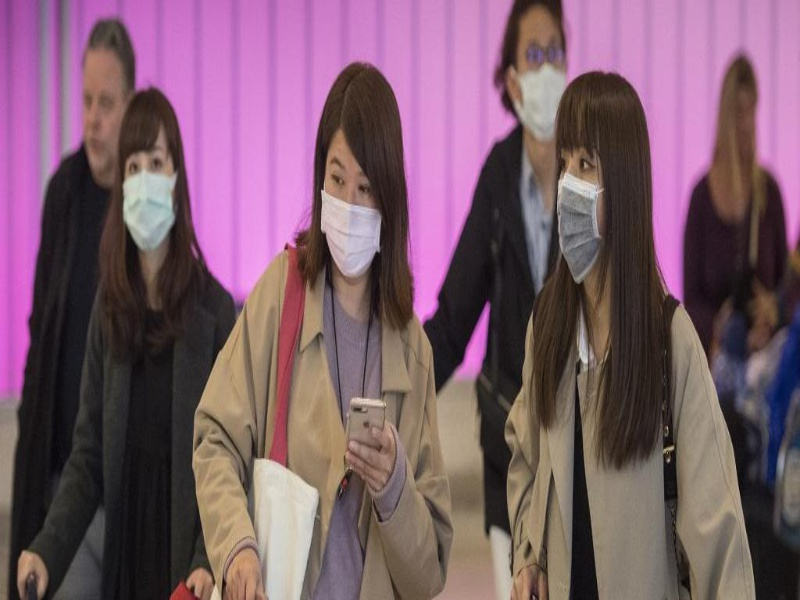ManaoArotava: (544, 89, 631, 308), (315, 82, 399, 301), (491, 7, 584, 149), (109, 96, 181, 275)
TsisyArotava: (75, 27, 135, 197)
